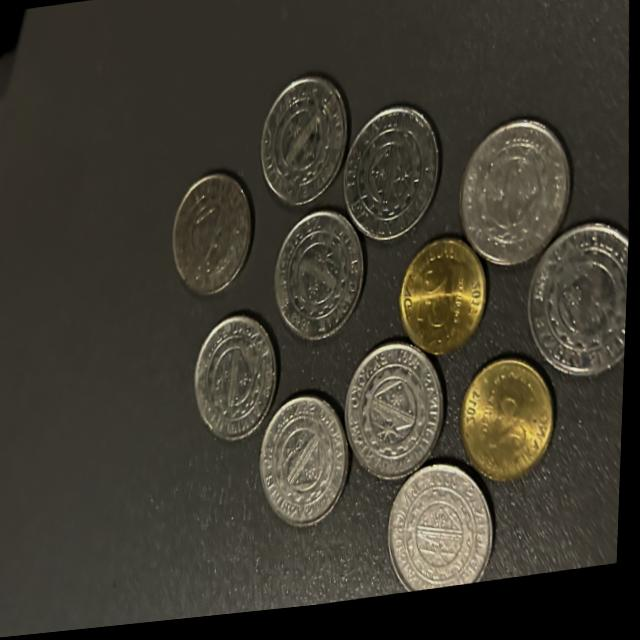1_Old_Back: (397, 472, 492, 603), (336, 119, 431, 244), (352, 352, 448, 474), (269, 216, 363, 338), (265, 399, 351, 529), (192, 326, 285, 446)
25Cent_Old_Front: (405, 261, 483, 352)
